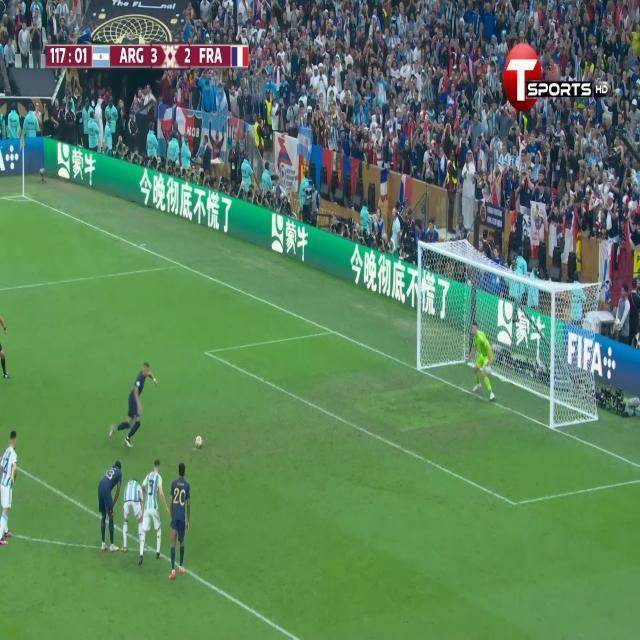ball: (190, 431, 205, 453)
goalkeeper: (465, 317, 495, 411)
player: (162, 459, 193, 587), (118, 349, 158, 448), (143, 451, 167, 565), (0, 418, 19, 555), (96, 456, 117, 569), (123, 469, 144, 565)
